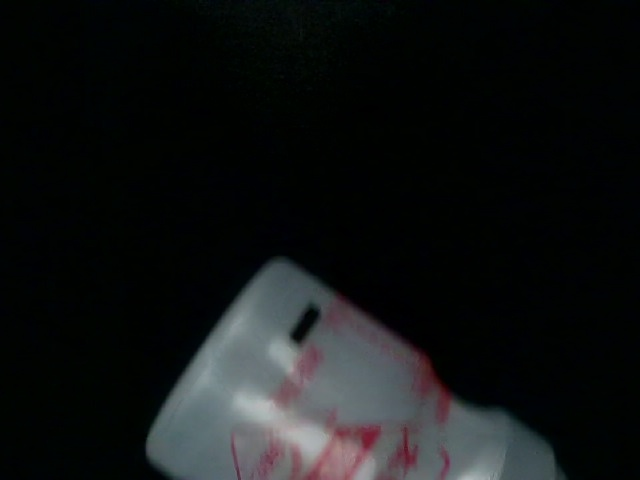CYLJ: (436, 94, 540, 209)
